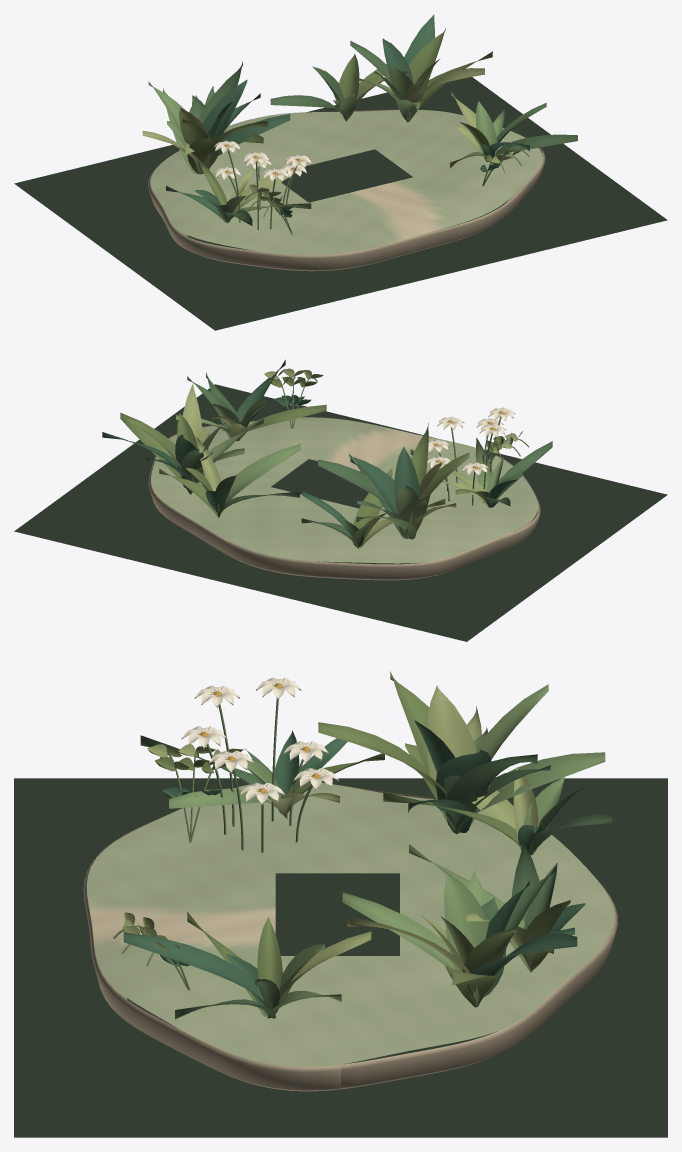
File: garden-diorama.glb
The picture shows the model from 3 angles, top to bottom: view 1: azimuth 30°, elevation 25°; view 2: azimuth 150°, elevation 25°; view 3: azimuth 270°, elevation 25°; orthographic projection. The views are drawn at different scales.
Visible parts, largest first — view 1: Baked shadow planes, Carved sandstone and path, Sculpted botanical leaves and flowers; view 2: Baked shadow planes, Carved sandstone and path, Sculpted botanical leaves and flowers; view 3: Baked shadow planes, Carved sandstone and path, Sculpted botanical leaves and flowers.
Boxes of the visible parts, box(x1,y1,x2,y2) form: Baked shadow planes: box(14, 77, 667, 330); Carved sandstone and path: box(148, 109, 545, 271); Sculpted botanical leaves and flowers: box(142, 14, 577, 234); Baked shadow planes: box(14, 384, 667, 641); Carved sandstone and path: box(148, 417, 540, 580); Sculpted botanical leaves and flowers: box(102, 359, 552, 548); Baked shadow planes: box(14, 778, 667, 1137); Carved sandstone and path: box(83, 782, 617, 1091); Sculpted botanical leaves and flowers: box(113, 671, 612, 1019).
Bounding box in the file's own units: 5.2 × 1.17 × 4.
Materials: 3 (1 with a texture image).
